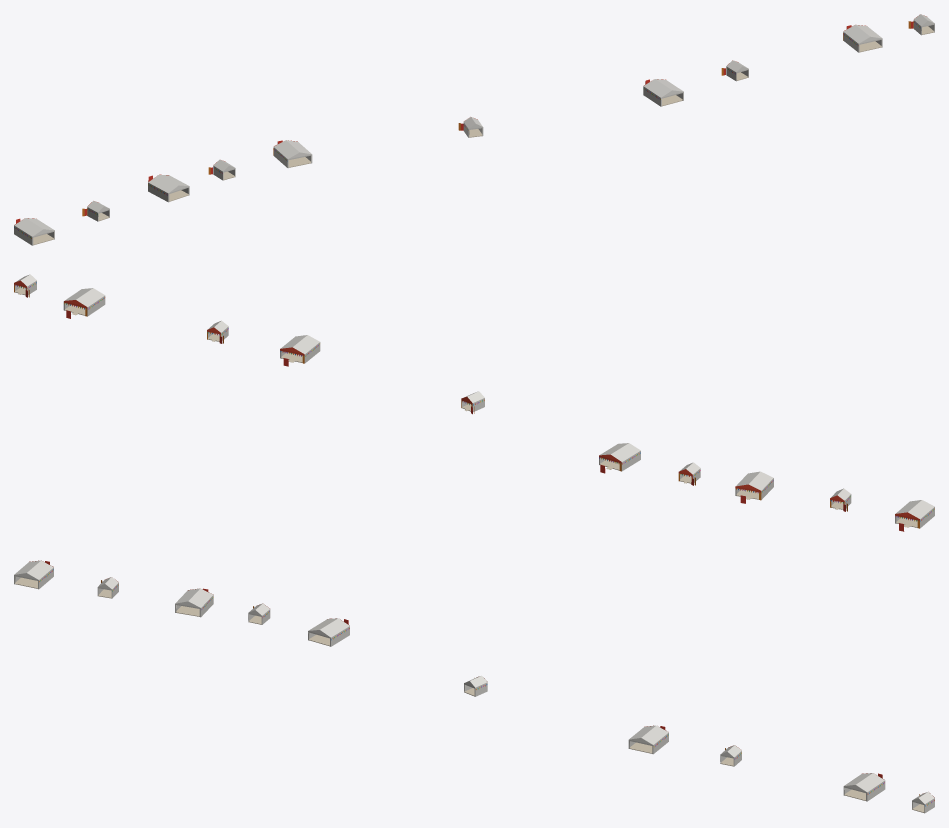
File: evento_feria_del_libro.glb
3 renders of one model, top to bottom at view 1: azimuth 30°, elevation 25°; view 2: azimuth 150°, elevation 25°; view 3: azimuth 330°, elevation 25°, orthographic. The views are drawn at different scales.
Parts seen in each view (by area): view 1: pabellon_03_Cube, pabellon_01_Cube, pabellon_07_Cube, pabellon_09_Cube, pabellon_05_Cube; view 2: pabellon_09_Cube, pabellon_05_Cube, pabellon_07_Cube, pabellon_01_Cube, pabellon_03_Cube; view 3: pabellon_09_Cube, pabellon_05_Cube, pabellon_07_Cube, pabellon_01_Cube, pabellon_03_Cube.
Boxes of the visible parts, x1,y1,x2,y2 form: pabellon_03_Cube: (148,175,189,202); pabellon_01_Cube: (14,218,54,245); pabellon_07_Cube: (643,79,683,106); pabellon_09_Cube: (843,25,882,52); pabellon_05_Cube: (273,140,312,168); pabellon_09_Cube: (63,288,105,316); pabellon_05_Cube: (599,443,640,471); pabellon_07_Cube: (280,335,320,363); pabellon_01_Cube: (895,500,934,528); pabellon_03_Cube: (735,471,773,499); pabellon_09_Cube: (843,773,885,801); pabellon_05_Cube: (308,618,349,646); pabellon_07_Cube: (628,725,668,754); pabellon_01_Cube: (14,560,53,589); pabellon_03_Cube: (175,588,213,617).
Bounding box in the file's own units: 35.54 × 0.512 × 3.63.
